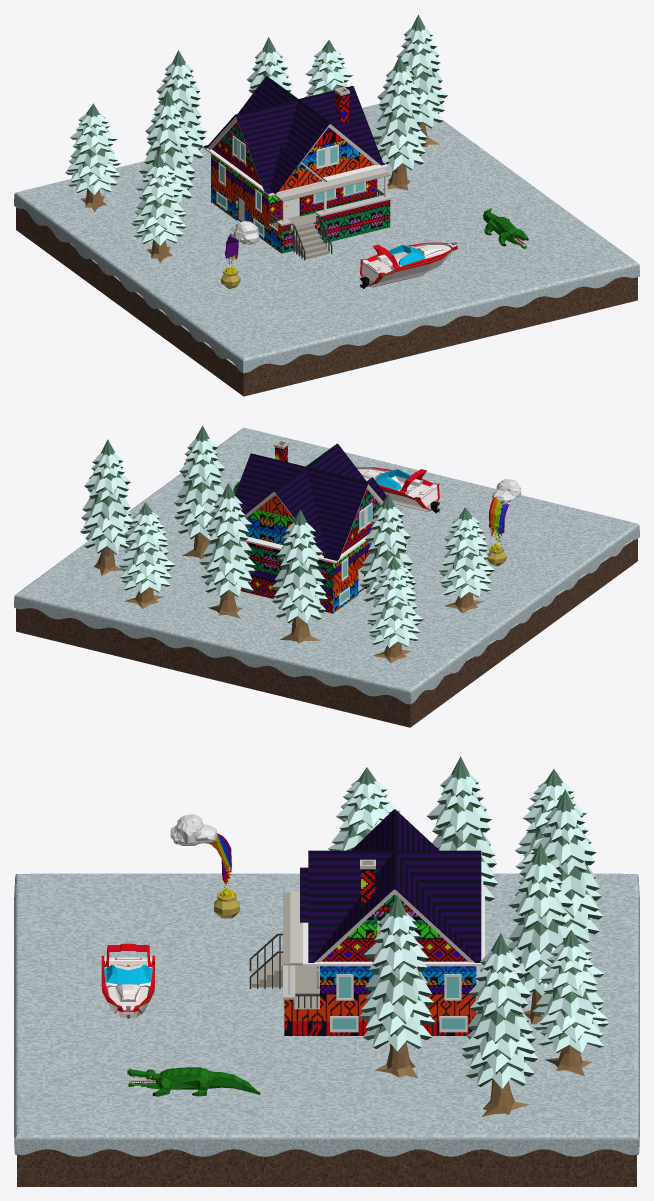
3 views of the same model, one above another, from view 1: azimuth 30°, elevation 25°; view 2: azimuth 150°, elevation 25°; view 3: azimuth 270°, elevation 25° (orthographic). The views are drawn at different scales.
Parts seen in each view (by area): view 1: Cube.003, Cube.966, VEHICLES_BOAT, OBJRANDOM_RAINBOW, ANIMAL_COCODRILO; view 2: Cube.003, Cube.966, VEHICLES_BOAT, OBJRANDOM_RAINBOW; view 3: Cube.003, Cube.966, VEHICLES_BOAT, ANIMAL_COCODRILO, OBJRANDOM_RAINBOW.
Boxes of the visible parts, left/top/right/bottom form: Cube.003: left=14, top=14, right=639, bottom=396; Cube.966: left=202, top=76, right=393, bottom=260; VEHICLES_BOAT: left=359, top=242, right=457, bottom=288; OBJRANDOM_RAINBOW: left=221, top=221, right=259, bottom=288; ANIMAL_COCODRILO: left=483, top=208, right=528, bottom=248; Cube.003: left=14, top=425, right=639, bottom=727; Cube.966: left=235, top=440, right=405, bottom=613; VEHICLES_BOAT: left=356, top=467, right=440, bottom=513; OBJRANDOM_RAINBOW: left=487, top=479, right=521, bottom=566; Cube.003: left=14, top=756, right=639, bottom=1186; Cube.966: left=249, top=809, right=484, bottom=1035; VEHICLES_BOAT: left=101, top=943, right=154, bottom=1018; ANIMAL_COCODRILO: left=127, top=1067, right=260, bottom=1096; OBJRANDOM_RAINBOW: left=170, top=814, right=239, bottom=918.
Bounding box in the file's own units: 4040 × 1700 × 4040.
38 materials, 7 textured.
